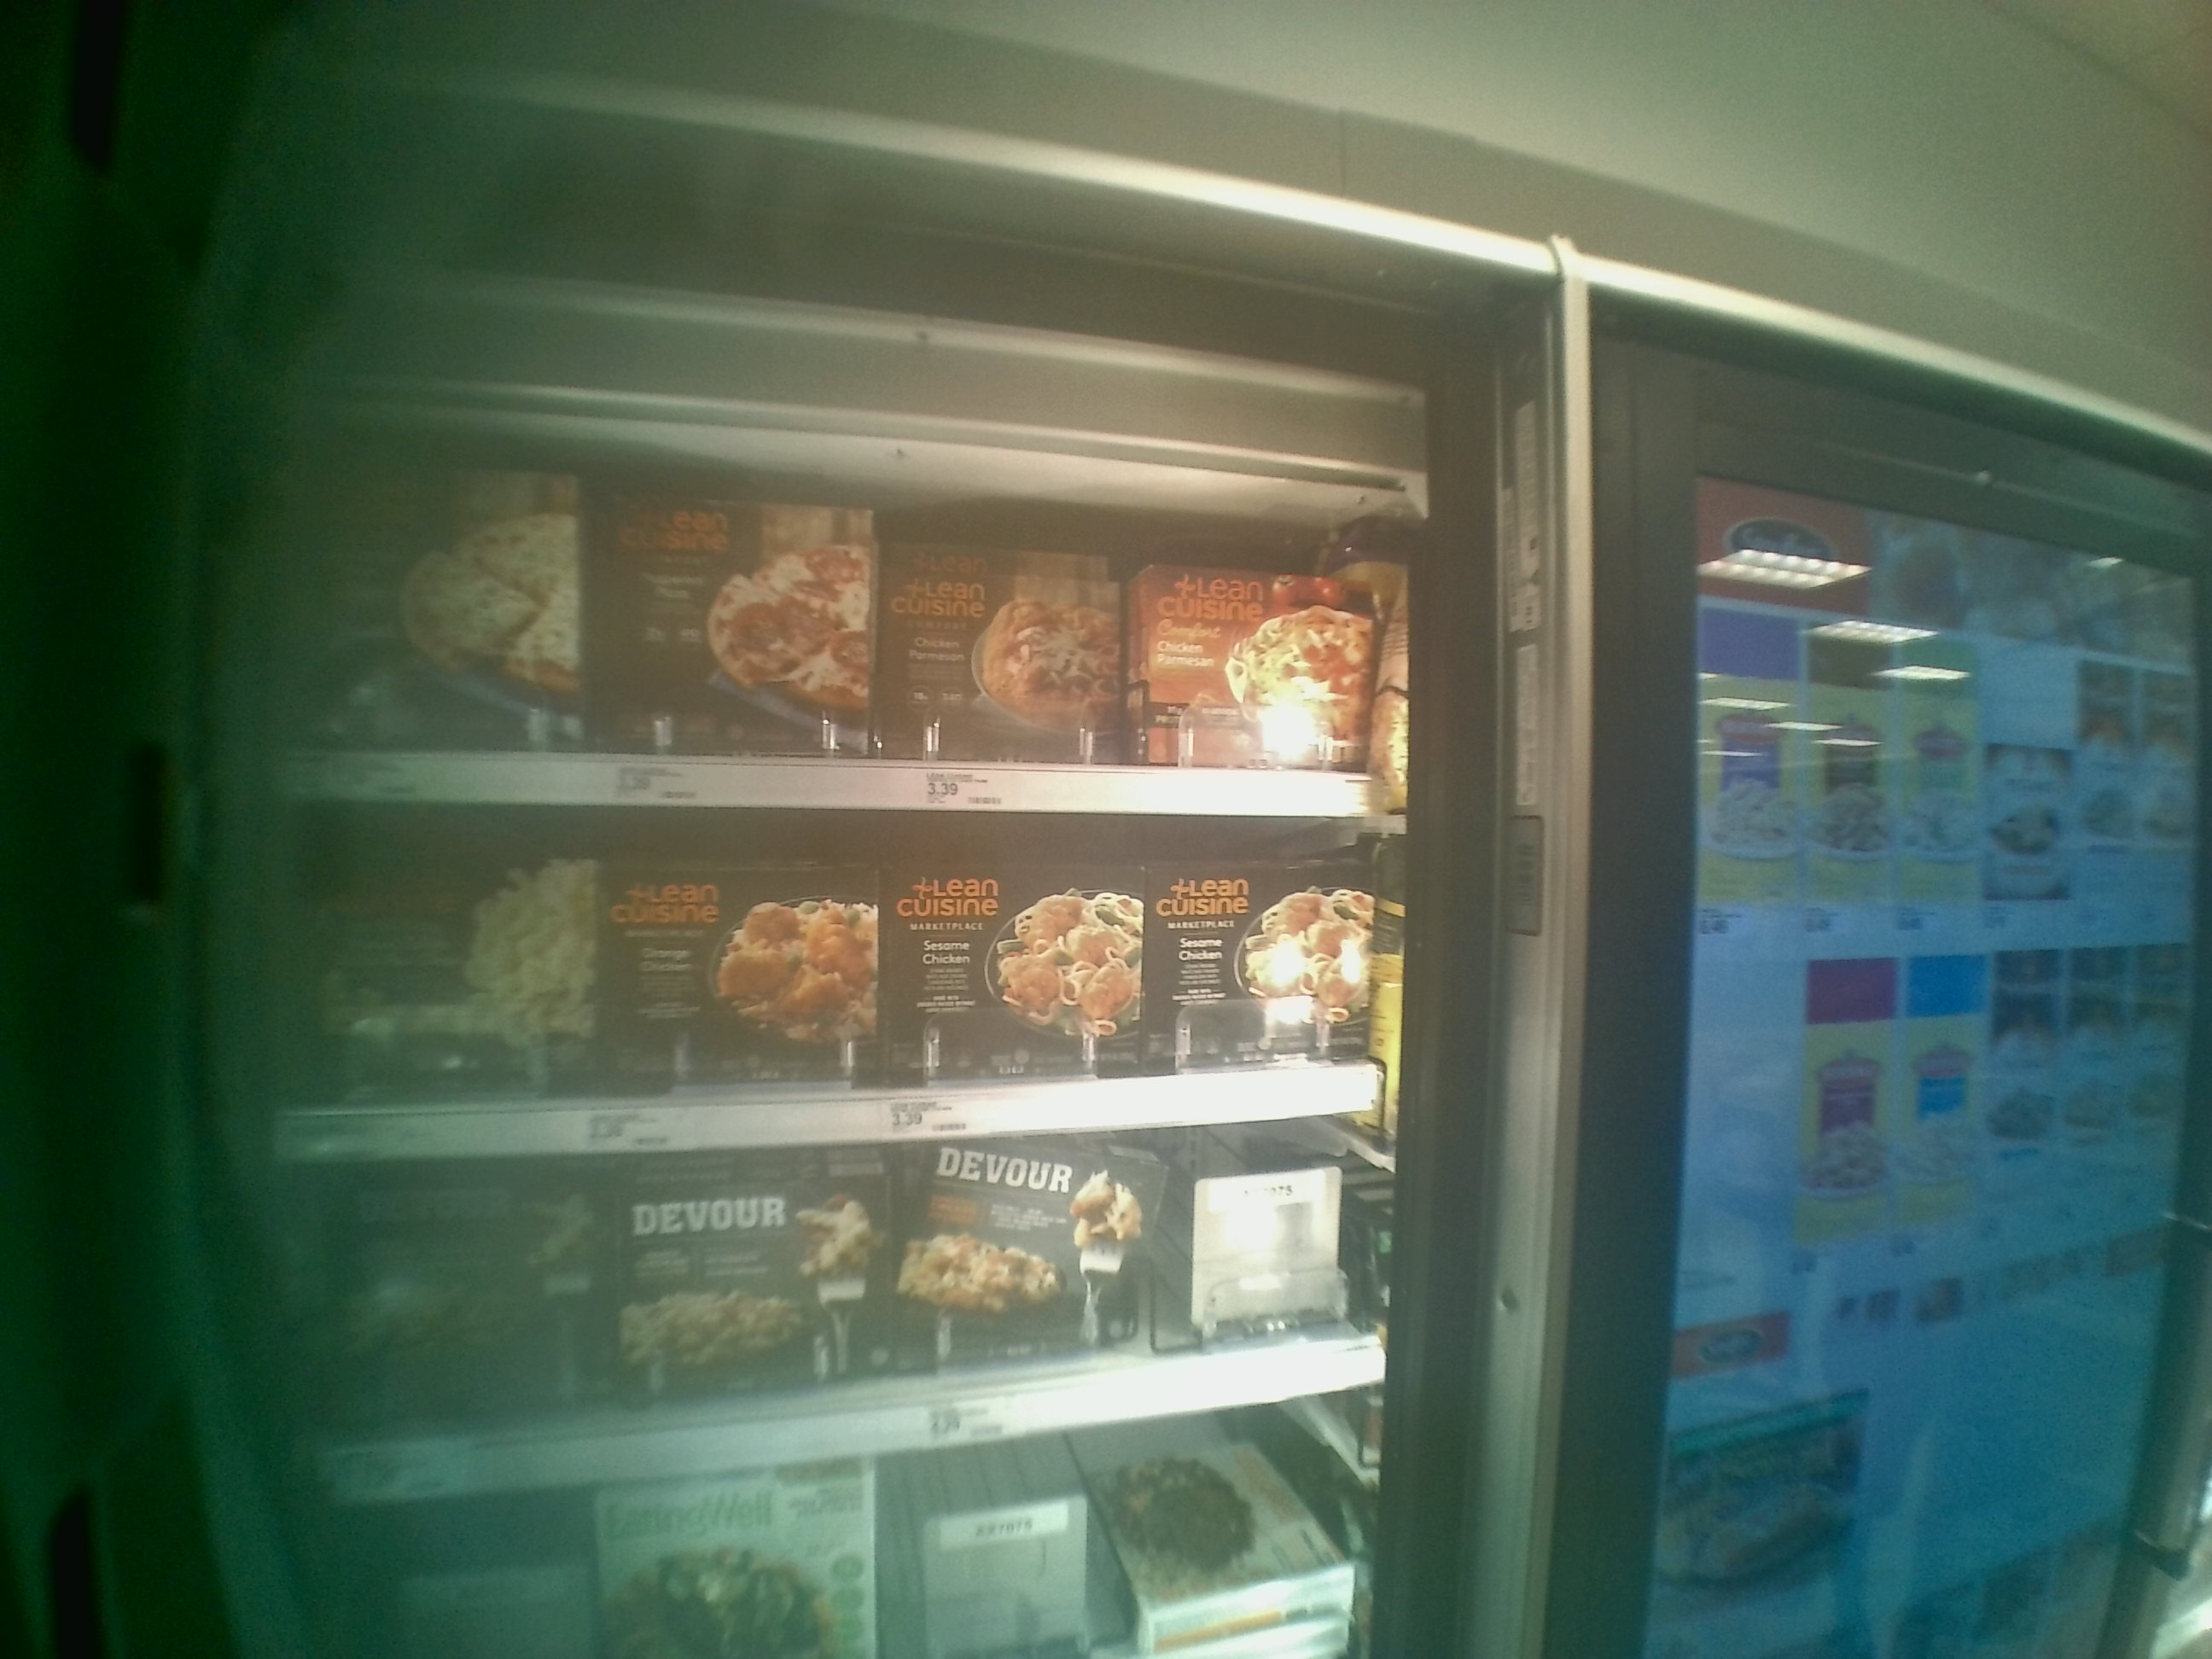shelf: (251, 403, 1399, 823), (279, 1089, 1393, 1499), (261, 793, 1411, 1171)
